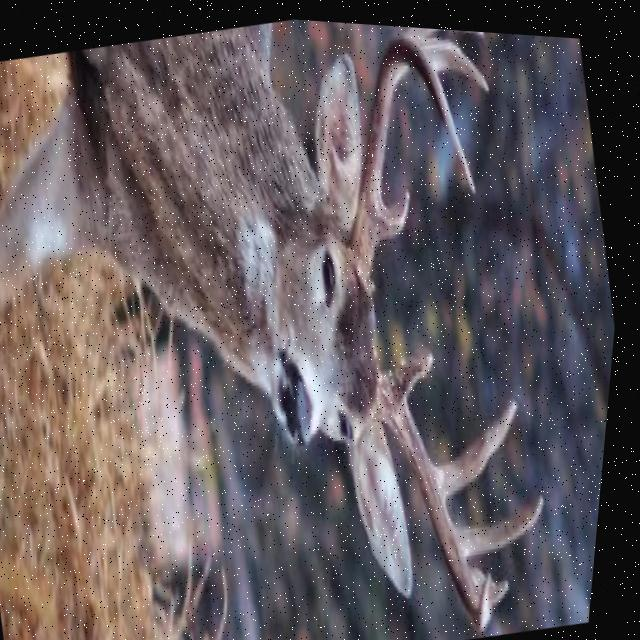L-F: (350, 28, 479, 280)
L-G1: (379, 176, 414, 243)
R-F: (381, 358, 503, 626)
R-G1: (397, 337, 442, 393)
R-G2: (439, 387, 525, 494)
R-G3: (459, 480, 553, 550)
